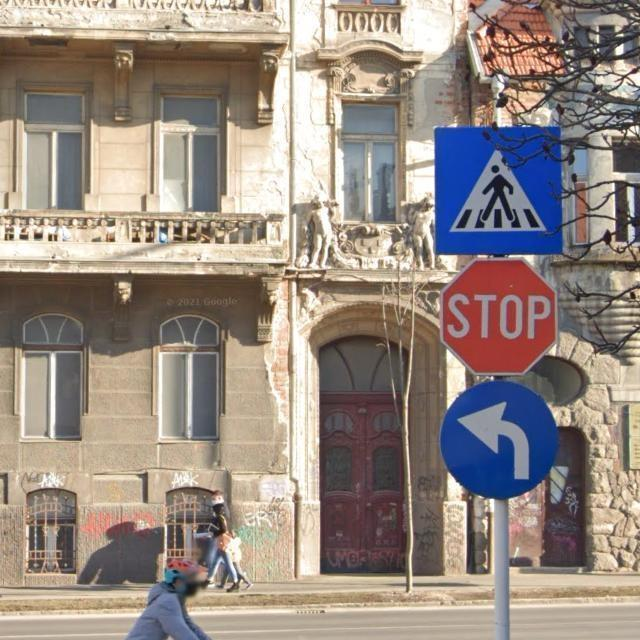info_crosswalk: (433, 125, 563, 258)
prio_stop: (437, 260, 556, 373)
